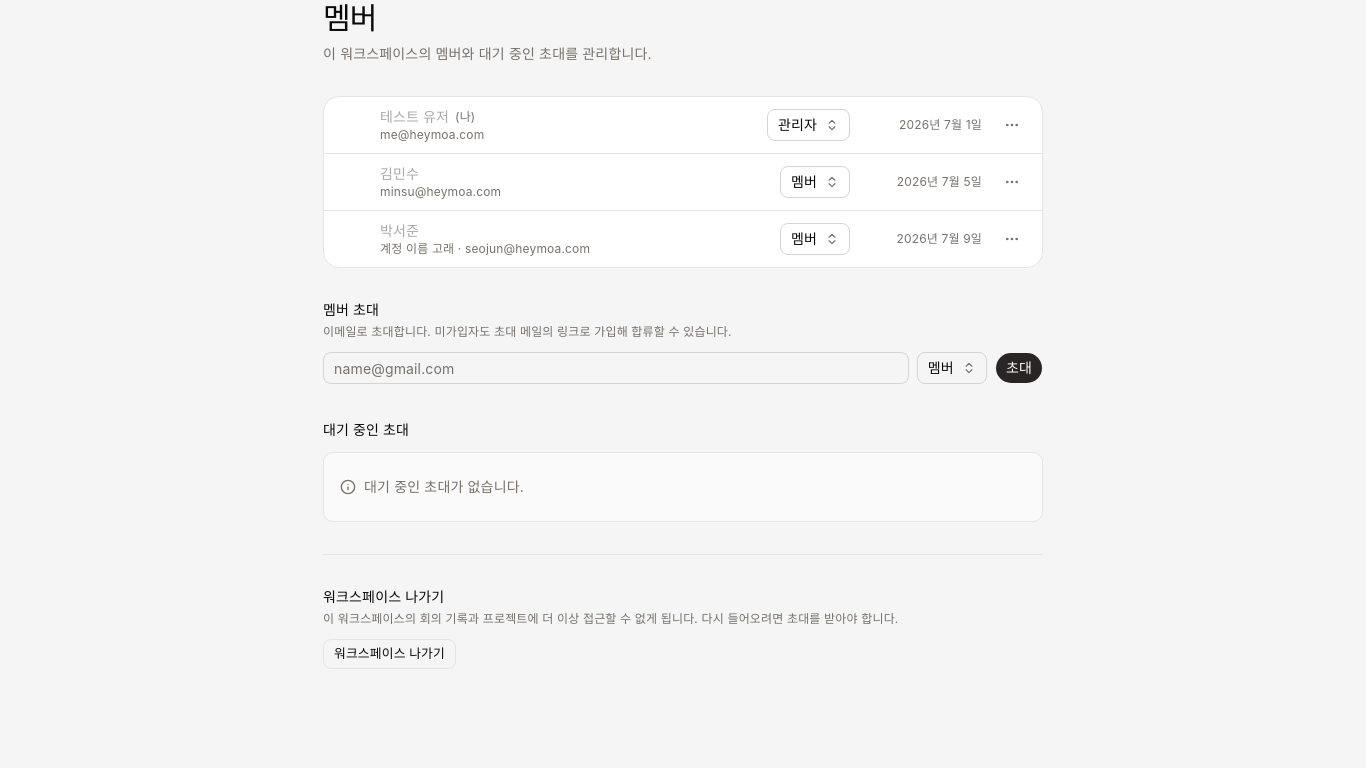
it: MembersSettings 이름 변경 › 서버가 표시 이름을 안 줘도(배포 전) 계정 이름을 이름으로 보고 빈 입력에서 시작한다
Click the button named "김민수(minsu@heymoa.com) 관리". click: (1012, 182)
box: x1=998 y1=168 x2=1026 y2=196
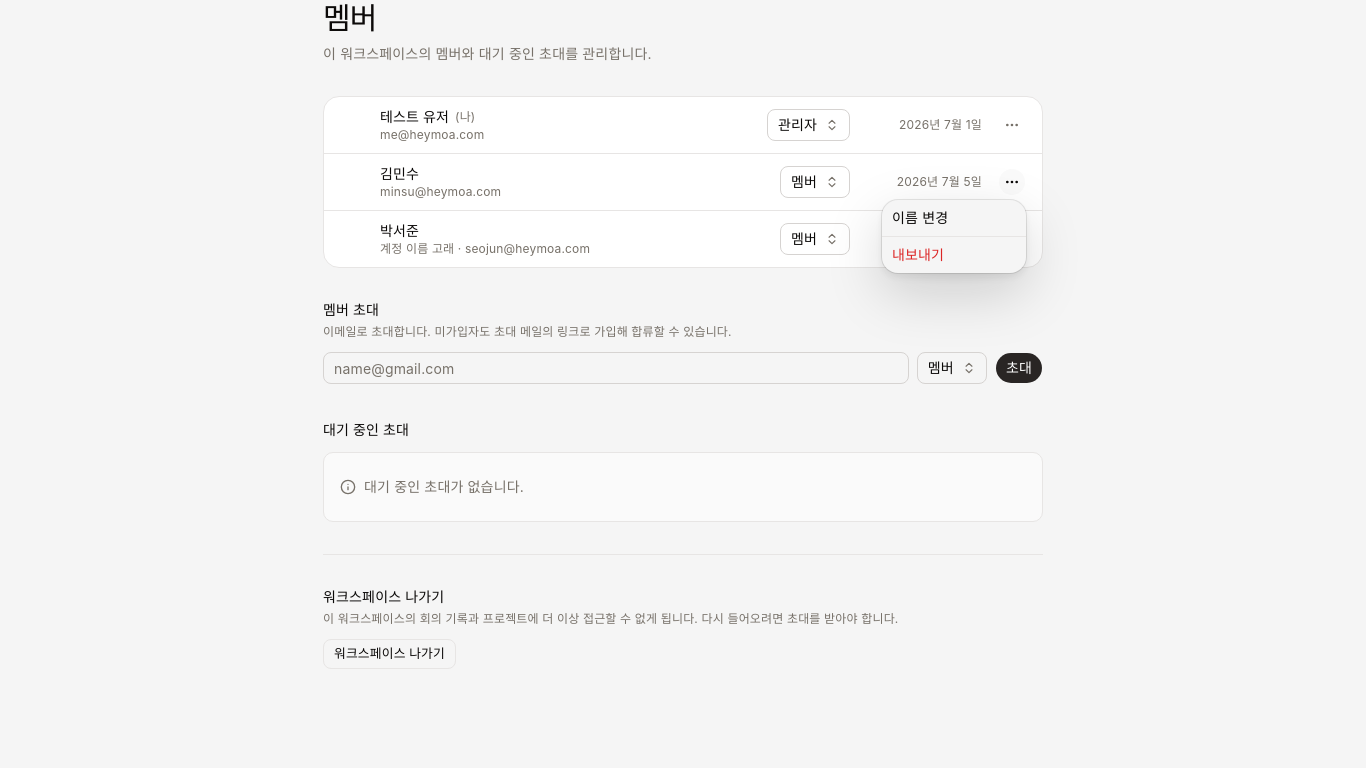
Click the menu item "이름 변경". click: (920, 218)
box: x1=892 y1=209 x2=948 y2=226
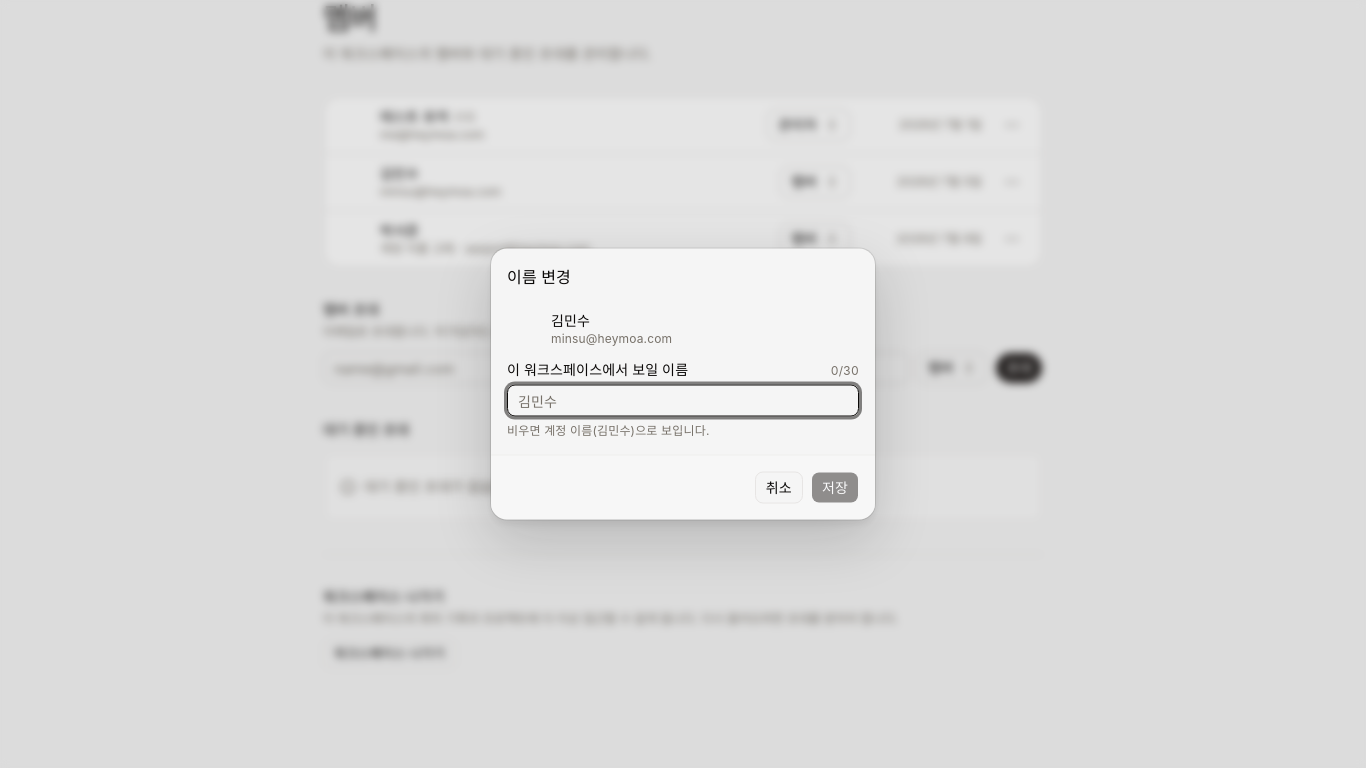
Expected: the field labelled "이 워크스페이스에서 보일 이름" is empty, x1=507 y1=384 x2=859 y2=416
Expected: the button "저장" is disabled, x1=811 y1=472 x2=859 y2=504
